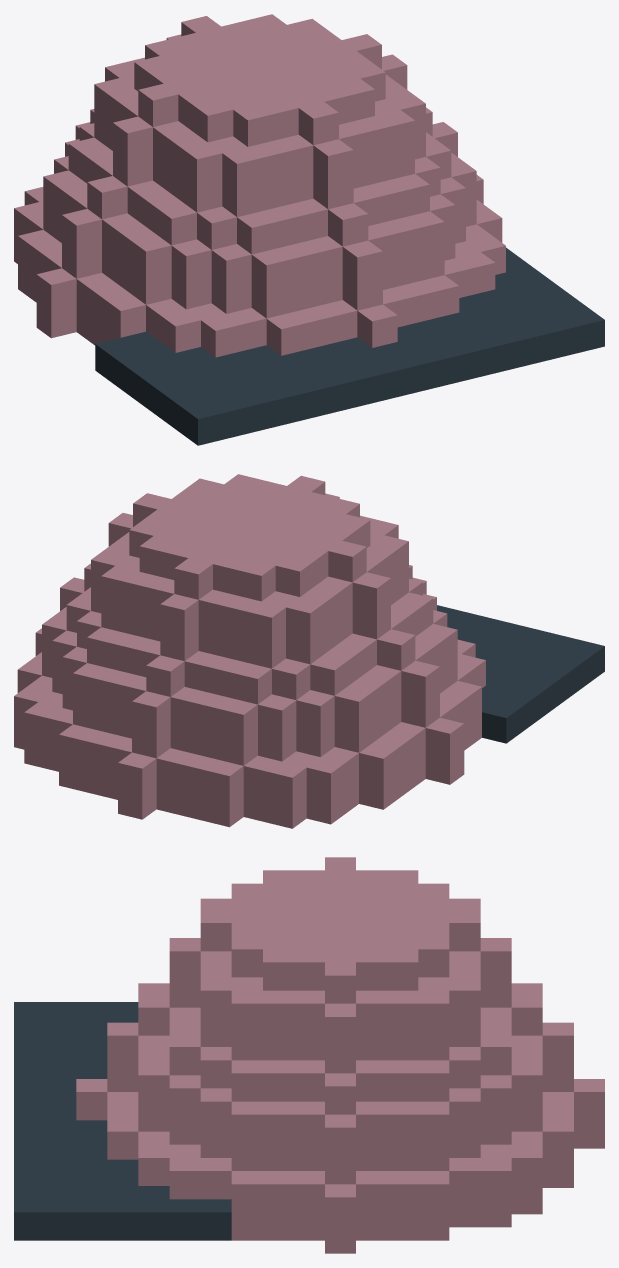
Rendered from fashion-20.glb.
The picture shows the model from 3 angles, top to bottom: view 1: azimuth 30°, elevation 25°; view 2: azimuth 150°, elevation 25°; view 3: azimuth 270°, elevation 25°; orthographic projection. The views are drawn at different scales.
Parts seen in each view (by area): view 1: Hat stand; view 2: Hat stand; view 3: Hat stand.
Boxes of the visible parts, box(x1,y1,x2,y2) form: Hat stand: box(14, 14, 604, 445); Hat stand: box(14, 474, 604, 828); Hat stand: box(14, 857, 604, 1253).
Size of the model in its own units: 1.36 by 0.64 by 1.52.
